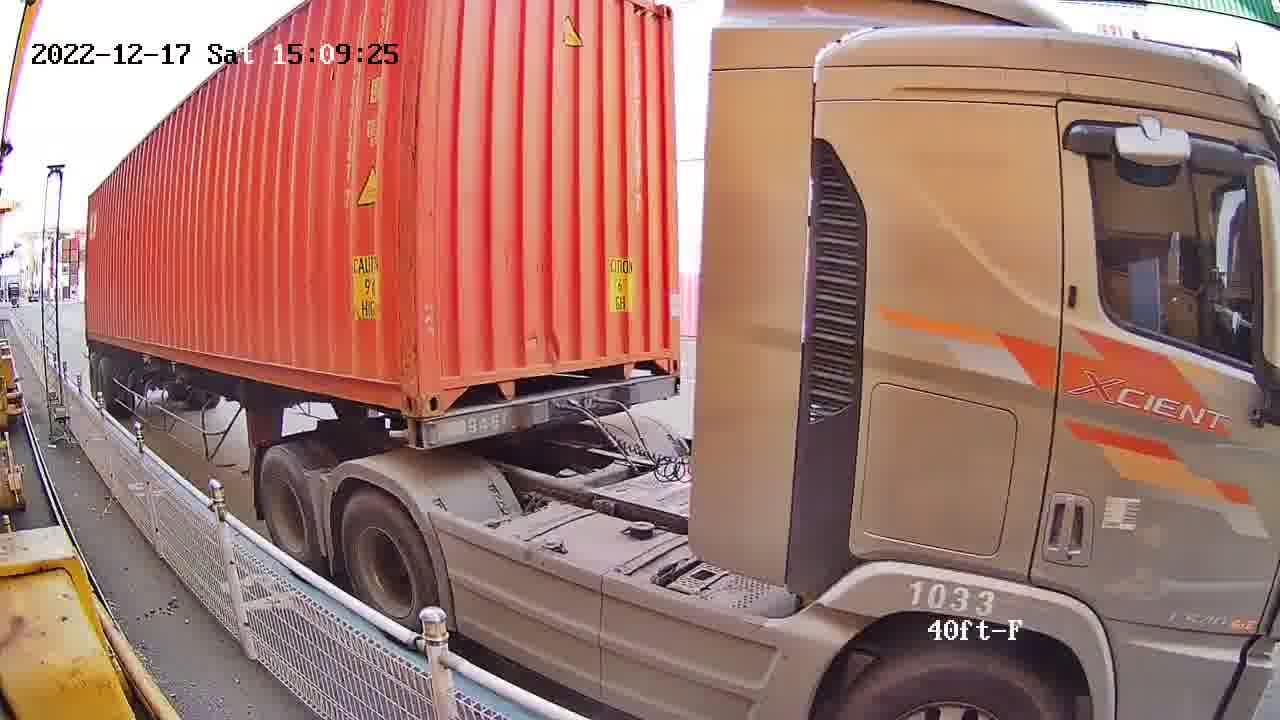Chassis: (429, 379, 679, 450)
Cone: (400, 419, 427, 447)
Hole_L: (420, 358, 472, 414)
Hole_R: (382, 360, 423, 419), (644, 333, 682, 377)
Tire: (341, 496, 436, 623), (261, 453, 319, 563)
